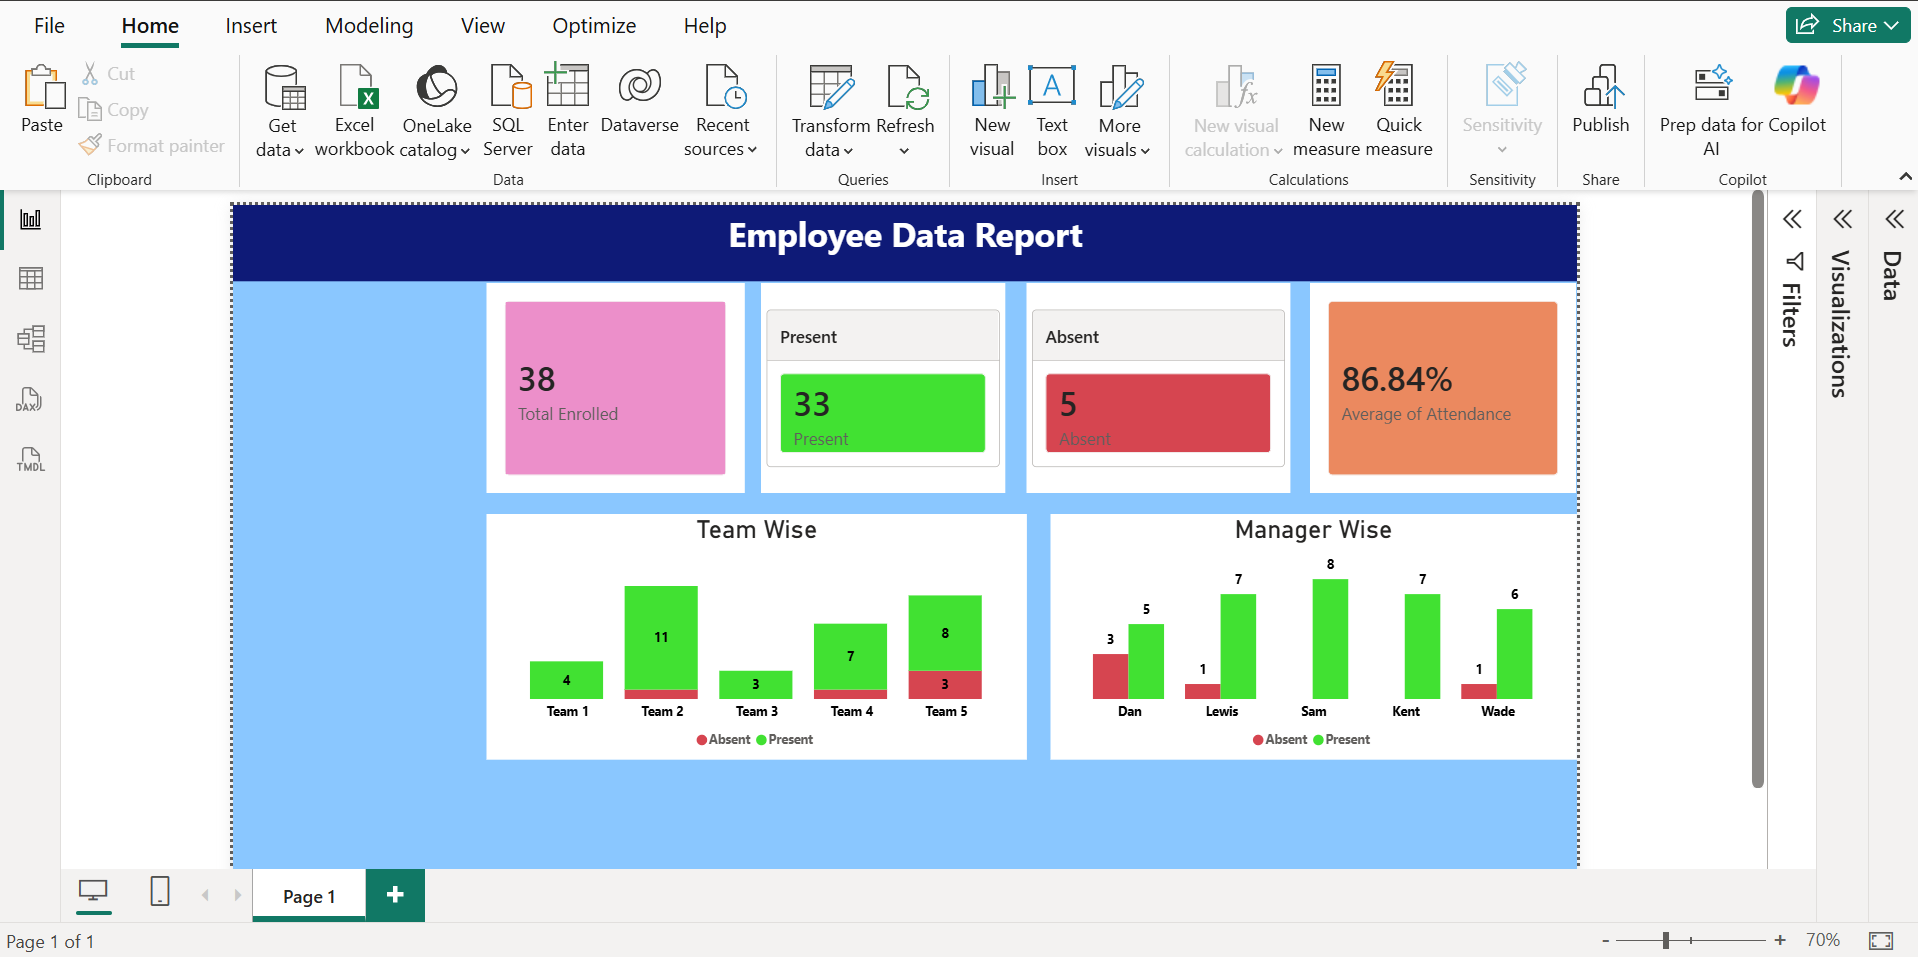

Layout of this report page (visuals, bound fields, positions):
{"tool":"powerbi","page":{"name":"Page 1","canvas":[1280,720],"ordinal":0},"visuals":[{"type":"textbox","box":[0,0,1280,61.7],"z":0},{"type":"cardVisual","fields":{"Data":["CountNonNull(Data.Full Name)"]},"box":[223.3,61.7,210,146.7],"z":1000},{"type":"cardVisual","fields":{"Data":["CountNonNull(Data.Attendance)"]},"box":[496.7,61.7,210,146.7],"z":2000},{"type":"cardVisual","fields":{"Data":["CountNonNull(Data.Attendance)"]},"box":[748.3,61.7,210,146.7],"z":3000},{"type":"cardVisual","fields":{"Data":["Avg(Data.Attendance Status)"]},"box":[1008.3,61.7,271.7,146.7],"z":4000},{"type":"columnChart","title":"Team Wise","fields":{"Category":["Data.Team"],"Y":["CountNonNull(Data.Full Name)"],"Series":["Data.Attendance"]},"box":[223.3,226.7,483.3,221.7],"z":4001},{"type":"clusteredColumnChart","title":"Manager Wise","fields":{"Category":["Data.Senior Manager"],"Y":["CountNonNull(Data.Full Name)"],"Series":["Data.Attendance"]},"box":[748.3,226.7,531.7,221.7],"z":4002}]}

Visuals, with their boxes on the page's 1280x720 design canvas (x1, y1, x2, y2). These are canvas units, not pixel positions in the 1918x957 screenshot, which may show the page scaled, cropped or inside an application window:
textbox: bbox=[0, 0, 1280, 62]
cardVisual - CountNonNull(Data.Full Name): bbox=[223, 62, 433, 208]
cardVisual - CountNonNull(Data.Attendance): bbox=[497, 62, 707, 208]
cardVisual - CountNonNull(Data.Attendance): bbox=[748, 62, 958, 208]
cardVisual - Avg(Data.Attendance Status): bbox=[1008, 62, 1280, 208]
"Team Wise" columnChart: bbox=[223, 227, 707, 448]
"Manager Wise" clusteredColumnChart: bbox=[748, 227, 1280, 448]
